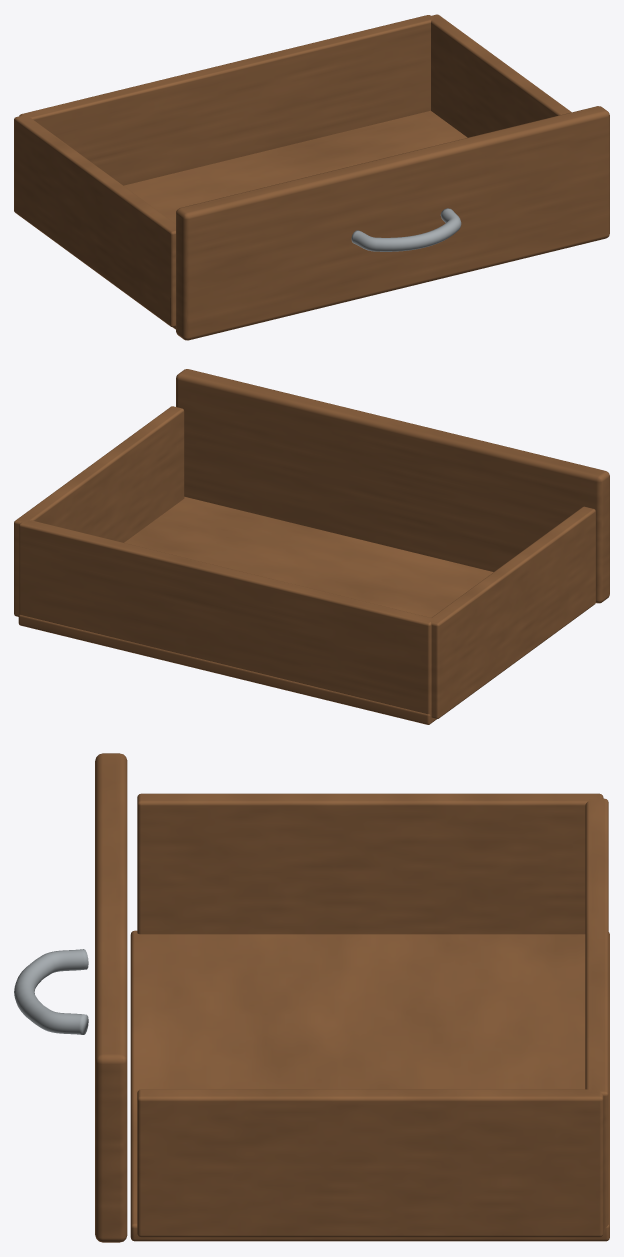
File: drawer.glb
3 renders of one model, top to bottom at view 1: azimuth 30°, elevation 25°; view 2: azimuth 150°, elevation 25°; view 3: azimuth 270°, elevation 25°, orthographic. The views are drawn at different scales.
Parts seen in each view (by area): view 1: drawer; view 2: drawer; view 3: drawer.
Part boxes in pixels (x1,y1,x2,y2): drawer: (14,14,609,340); drawer: (14,369,609,724); drawer: (14,753,609,1242).
Bounding box in the file's own units: 0.56 × 0.1625 × 0.4601.
Materials: 2 (2 with a texture image).
